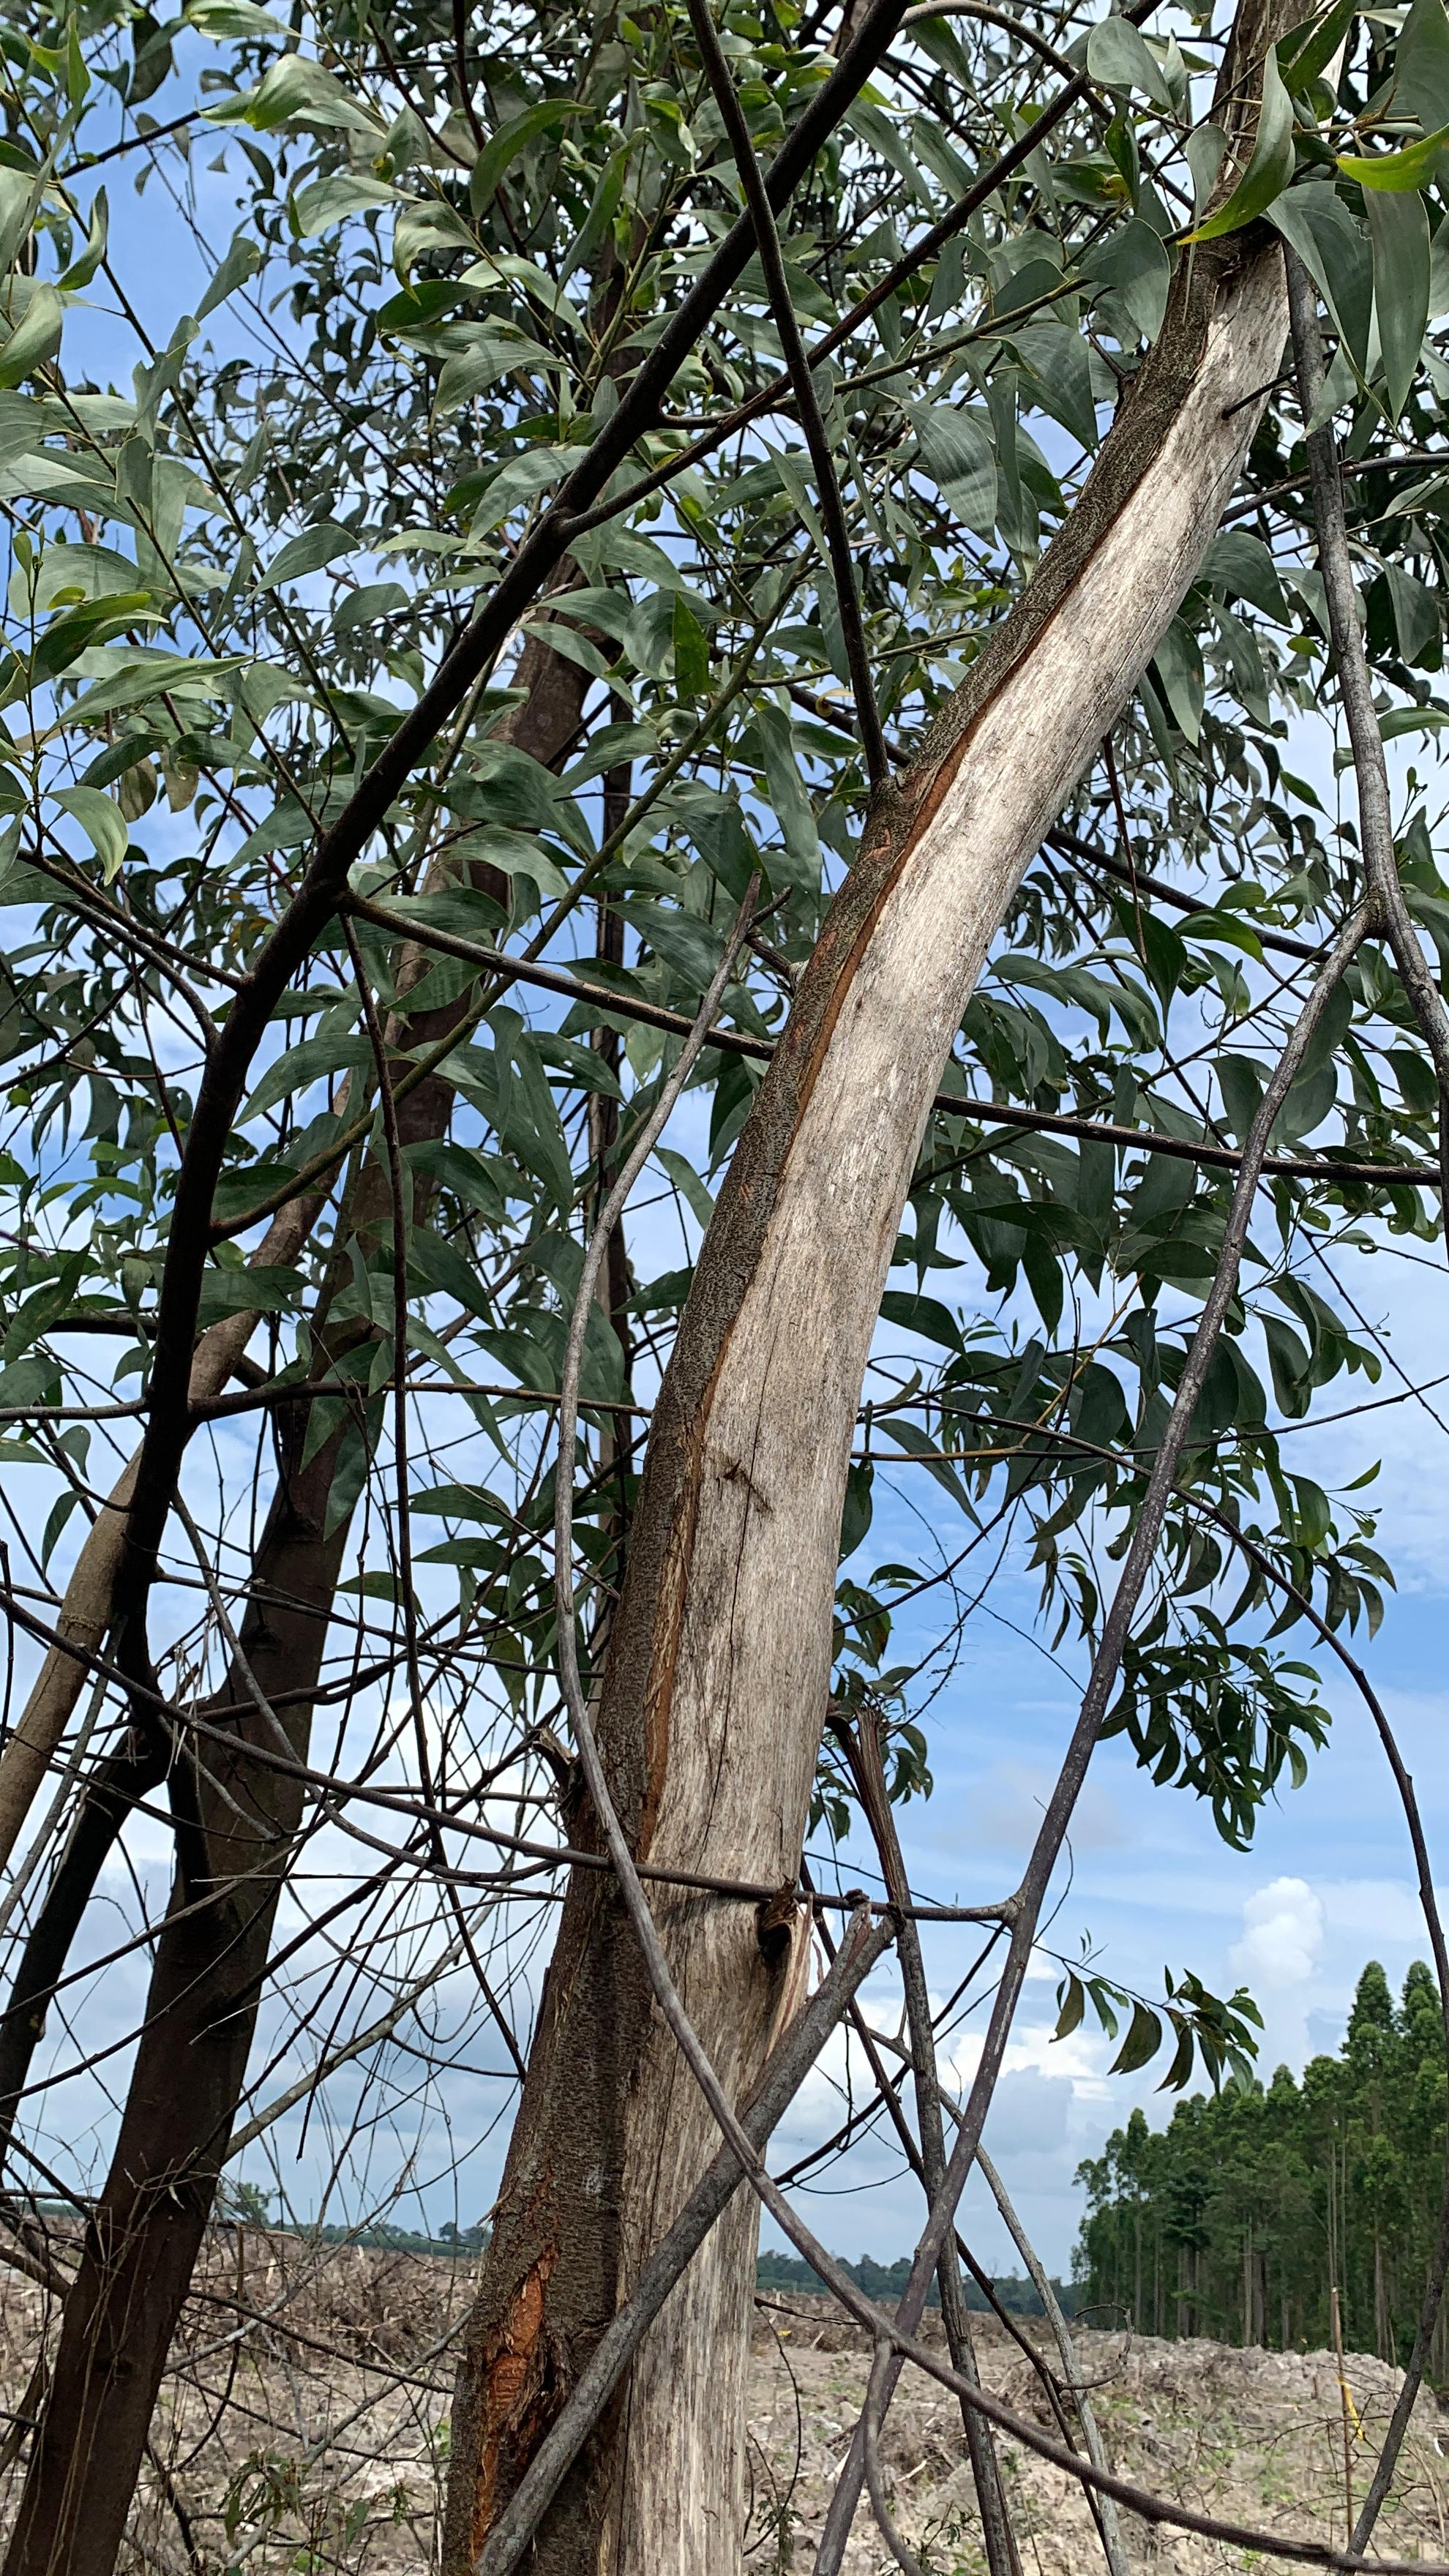Mammals Attack: (662, 0, 1246, 1467), (425, 1458, 872, 2576)
